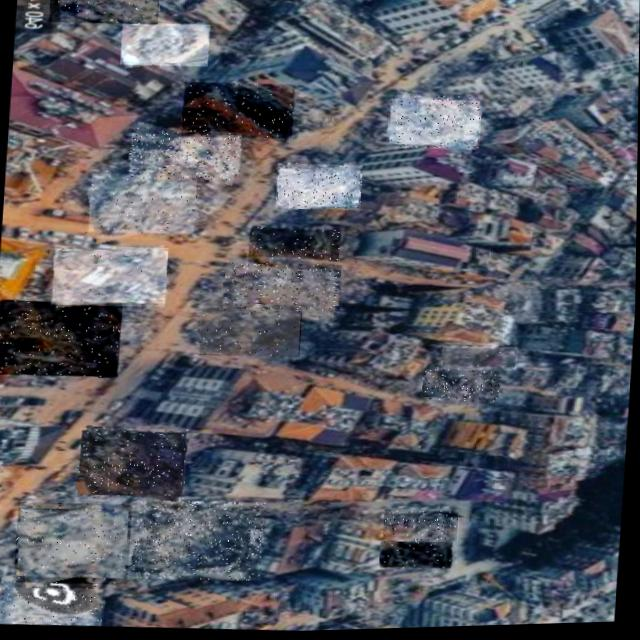Rubble: (133, 498, 266, 586), (14, 499, 133, 588), (0, 297, 123, 380), (85, 165, 201, 244), (76, 425, 189, 504), (51, 243, 169, 311), (180, 81, 295, 143), (127, 125, 242, 185), (222, 261, 342, 316), (386, 95, 482, 155), (0, 579, 107, 629), (199, 308, 301, 360), (275, 162, 363, 214), (119, 21, 210, 70), (249, 226, 340, 264), (421, 367, 502, 407), (48, 0, 159, 28), (384, 510, 459, 546), (380, 541, 453, 574), (442, 346, 518, 376)
